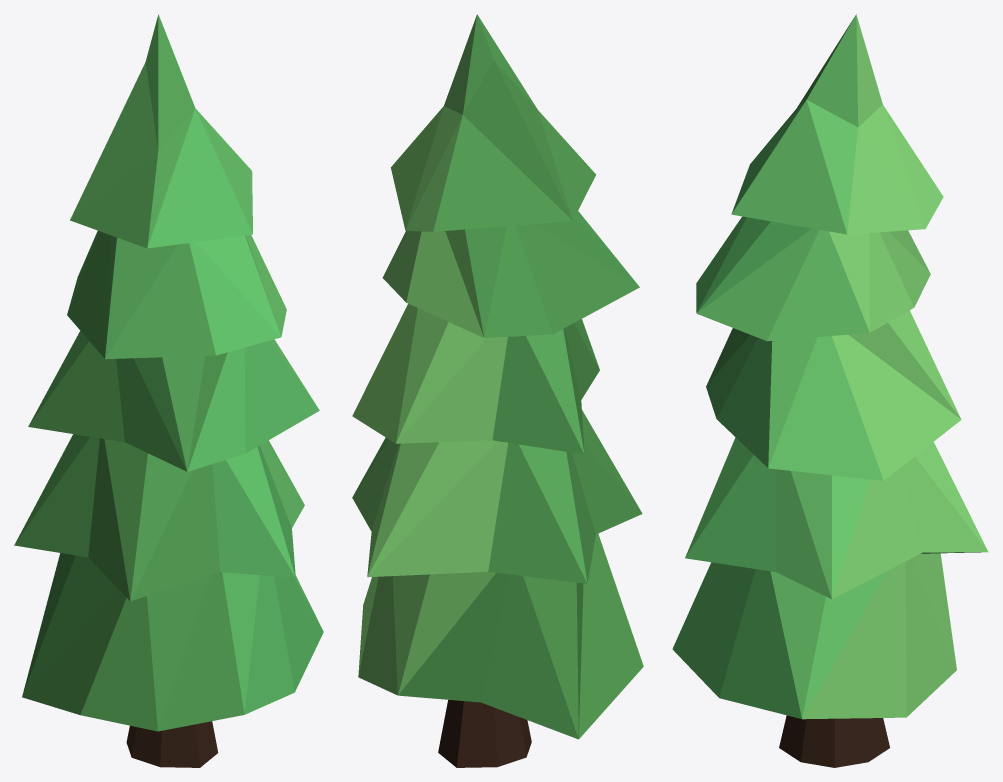
Rendered from 3d-feliu-axel-pi-del-bosc.glb.
The picture shows the model from 3 angles, left to right: view 1: azimuth 30°, elevation 25°; view 2: azimuth 150°, elevation 25°; view 3: azimuth 270°, elevation 25°; orthographic projection. The views are drawn at different scales.
Visible parts, largest first — view 1: Tree; view 2: Tree; view 3: Tree.
Part boxes in pixels (x1,y1,x2,y2): Tree: [14, 14, 323, 767]; Tree: [352, 14, 643, 767]; Tree: [672, 14, 988, 767].
Bounding box in the file's own units: 2.27 × 5.97 × 2.34.
1 material, 1 textured.
